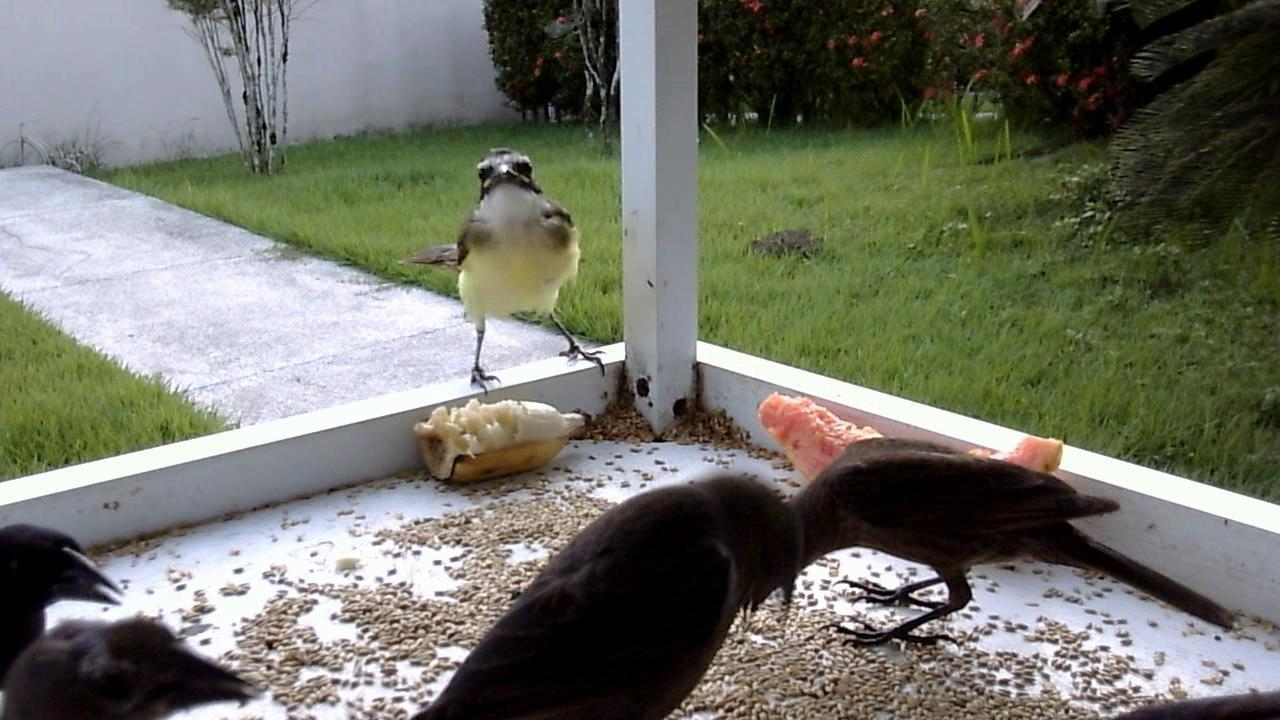bem_te_vi: (394, 142, 612, 404)
chupim: (757, 418, 1238, 667), (407, 457, 832, 708), (1, 620, 258, 720), (1, 518, 176, 661)
